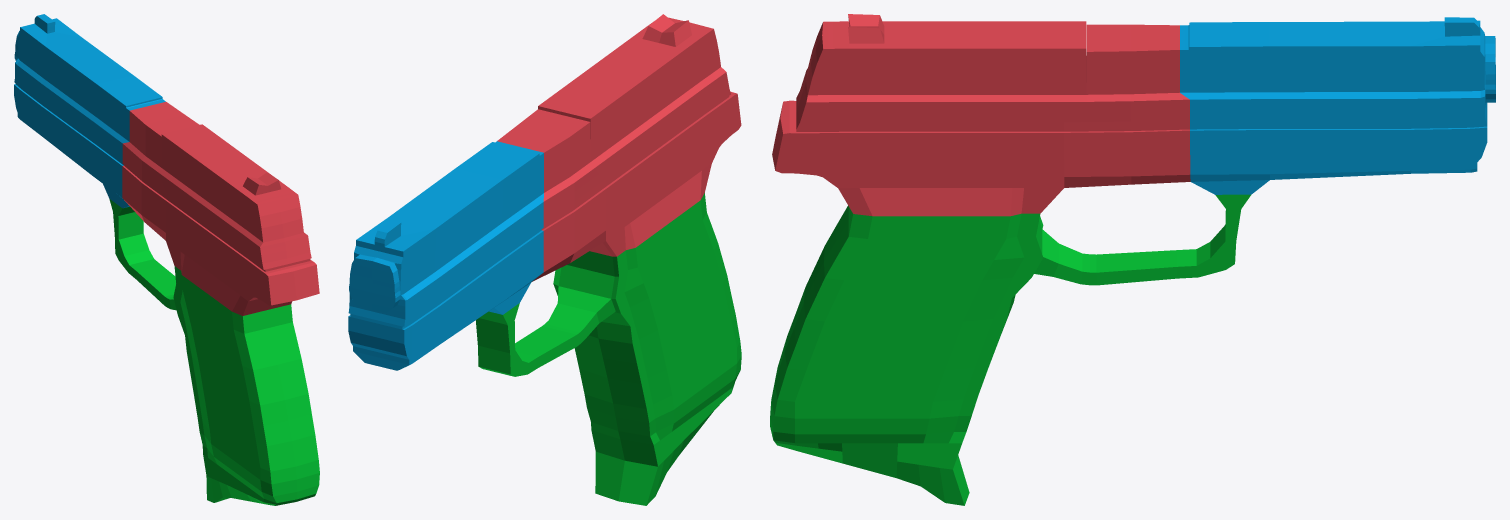
3 views of the same model, side by side, from view 1: azimuth 30°, elevation 25°; view 2: azimuth 150°, elevation 25°; view 3: azimuth 270°, elevation 25° (orthographic). The views are drawn at different scales.
Parts seen in each view (by area): view 1: Handle/Trigger, Chanmber, Barrel; view 2: Handle/Trigger, Chanmber, Barrel; view 3: Chanmber, Handle/Trigger, Barrel.
Boxes of the visible parts, left/top/right/bottom form: Handle/Trigger: left=109, top=199, right=319, bottom=505; Chanmber: left=122, top=102, right=319, bottom=315; Barrel: left=14, top=14, right=165, bottom=208; Handle/Trigger: left=476, top=193, right=741, bottom=505; Chanmber: left=497, top=14, right=741, bottom=281; Barrel: left=348, top=141, right=543, bottom=370; Chanmber: left=772, top=14, right=1190, bottom=216; Handle/Trigger: left=770, top=194, right=1250, bottom=505; Barrel: left=1180, top=17, right=1495, bottom=194.
Size of the model in its own units: 96.44 by 568 by 790.
